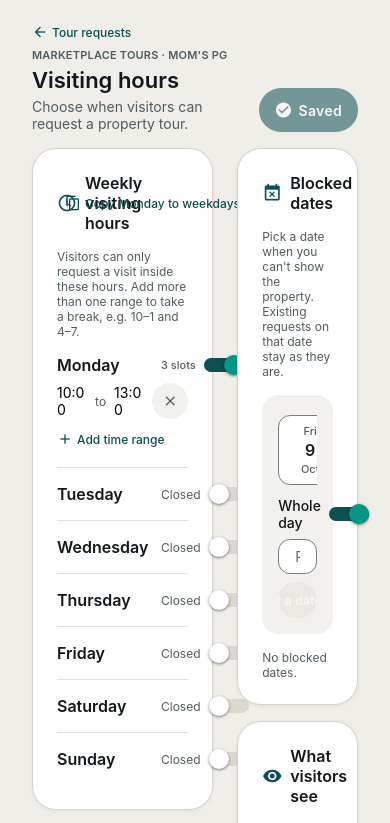
Test case: VisitingHoursScreen › opens a day and saves the new week
Expected: the text "Weekly visiting hours" is shown, [85,173,142,233]
Click the switch named "Saturday open for visits".
click(228, 706)  # box [208,696,248,716]
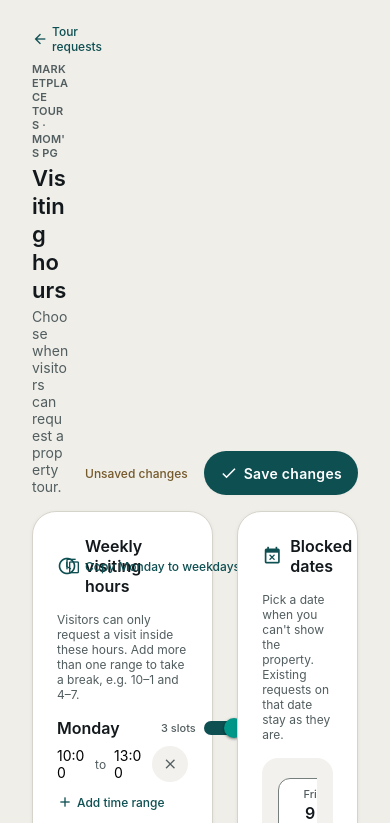
Expected: the text "Unsaved changes" is shown, [85,466,188,480]
Click the text "Save changes".
click(293, 473)  # box [244,464,342,482]
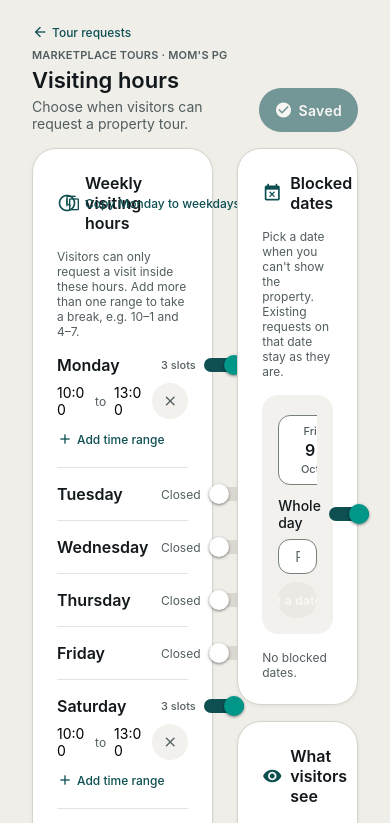
Expected: the text "Unsaved changes" is gone
